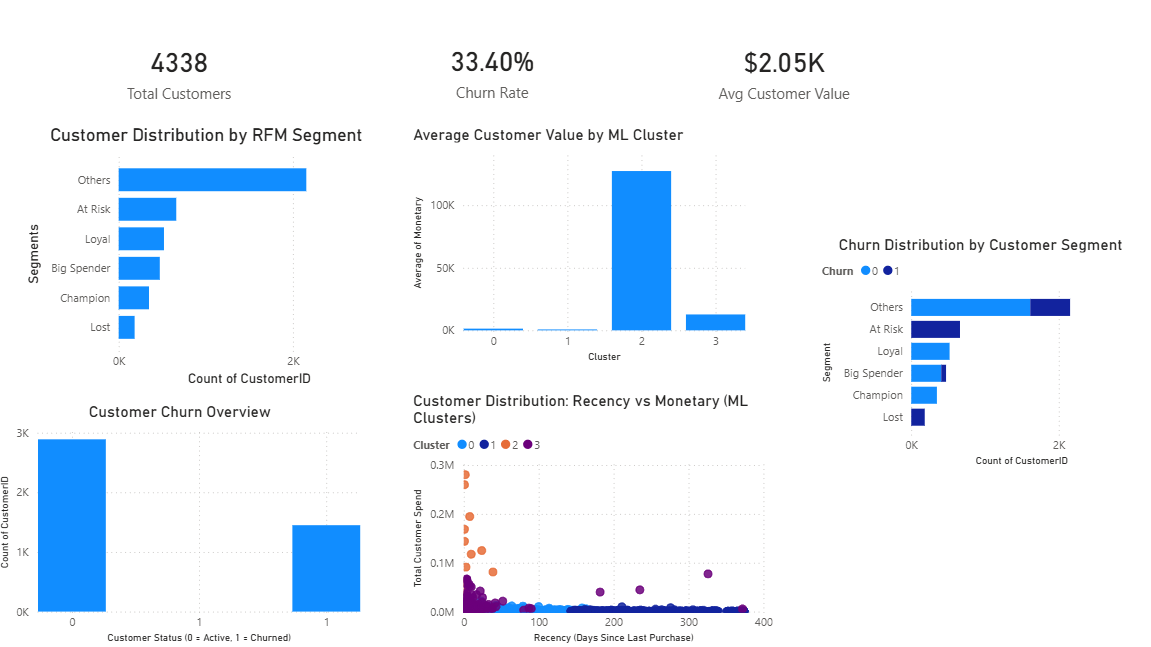

What the dashboard file says about the page in this screenshot:
{"tool":"powerbi","page":{"name":"Page 1","canvas":[1280,720],"ordinal":0},"visuals":[{"type":"card","fields":{"Values":["rfm_customer_analysis.Total Customers"]},"box":[28.8,20.6,279.9,142.7],"z":0},{"type":"card","fields":{"Values":["rfm_customer_analysis.Churn Rate"]},"box":[252,19,280.4,143.6],"z":1},{"type":"card","fields":{"Values":["rfm_customer_analysis.Avg Customer Value"]},"box":[509.4,19,280.4,143.6],"z":2},{"type":"clusteredBarChart","title":"Customer Distribution by RFM Segment","fields":{"Category":["rfm_customer_analysis.Segment"],"Y":["CountNonNull(rfm_customer_analysis.CustomerID)"]},"box":[28.5,185.6,401,266.9],"z":3},{"type":"clusteredColumnChart","title":"Average Customer Value by ML Cluster","fields":{"Category":["rfm_customer_analysis.Cluster"],"Y":["Avg(rfm_customer_analysis.Monetary)"]},"box":[448.4,176.1,369.9,250.6],"z":4},{"type":"clusteredColumnChart","title":"Customer Churn Overview","fields":{"Category":["rfm_customer_analysis.Churn"],"Y":["CountNonNull(rfm_customer_analysis.CustomerID)"]},"box":[818.3,9.5,401,250.6],"z":5},{"type":"barChart","title":"Churn Distribution by Customer Segment","fields":{"Category":["rfm_customer_analysis.Segment"],"Y":["CountNonNull(rfm_customer_analysis.CustomerID)"],"Series":["rfm_customer_analysis.Churn"]},"box":[891.4,301.4,354.3,255.7],"z":6},{"type":"scatterChart","title":"Customer Distribution: Recency vs Monetary (ML Clusters)","fields":{"X":["rfm_customer_analysis.Recency"],"Y":["rfm_customer_analysis.Monetary"],"Series":["rfm_customer_analysis.Cluster"]},"box":[432.9,430,400,275.7],"z":7}]}

Visuals, with their boxes in screenshot pixels (x1, y1, x2, y2), scaled from the page's 1280x720 canvas onto the 1151x647 screenshot:
card - rfm_customer_analysis.Total Customers: bbox=[26, 19, 278, 147]
card - rfm_customer_analysis.Churn Rate: bbox=[227, 17, 479, 146]
card - rfm_customer_analysis.Avg Customer Value: bbox=[458, 17, 710, 146]
"Customer Distribution by RFM Segment" clusteredBarChart: bbox=[26, 167, 386, 407]
"Average Customer Value by ML Cluster" clusteredColumnChart: bbox=[403, 158, 736, 383]
"Customer Churn Overview" clusteredColumnChart: bbox=[736, 9, 1096, 234]
"Churn Distribution by Customer Segment" barChart: bbox=[802, 271, 1120, 501]
"Customer Distribution: Recency vs Monetary (ML Clusters)" scatterChart: bbox=[389, 386, 749, 634]
